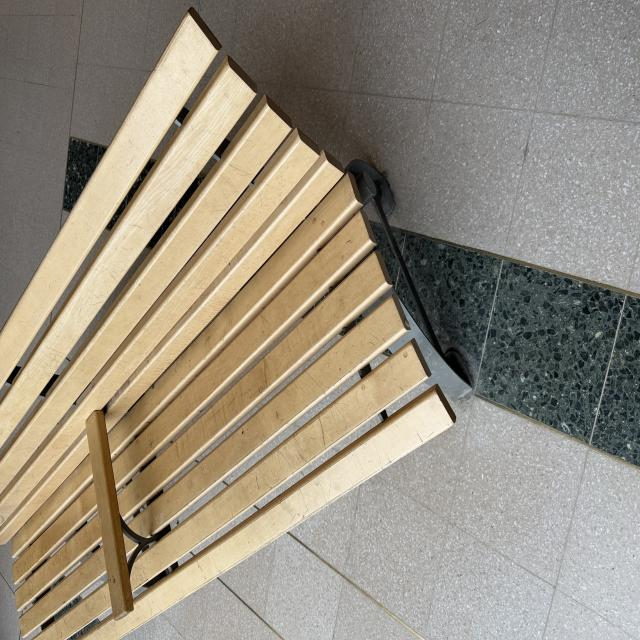Bench: (78, 214, 470, 618)
